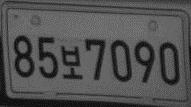0: (110, 39, 133, 82), (158, 41, 180, 85)
5: (37, 36, 58, 78)
7: (84, 37, 107, 81)
8: (12, 34, 35, 77)
9: (134, 40, 155, 84)
보: (59, 44, 84, 81)
